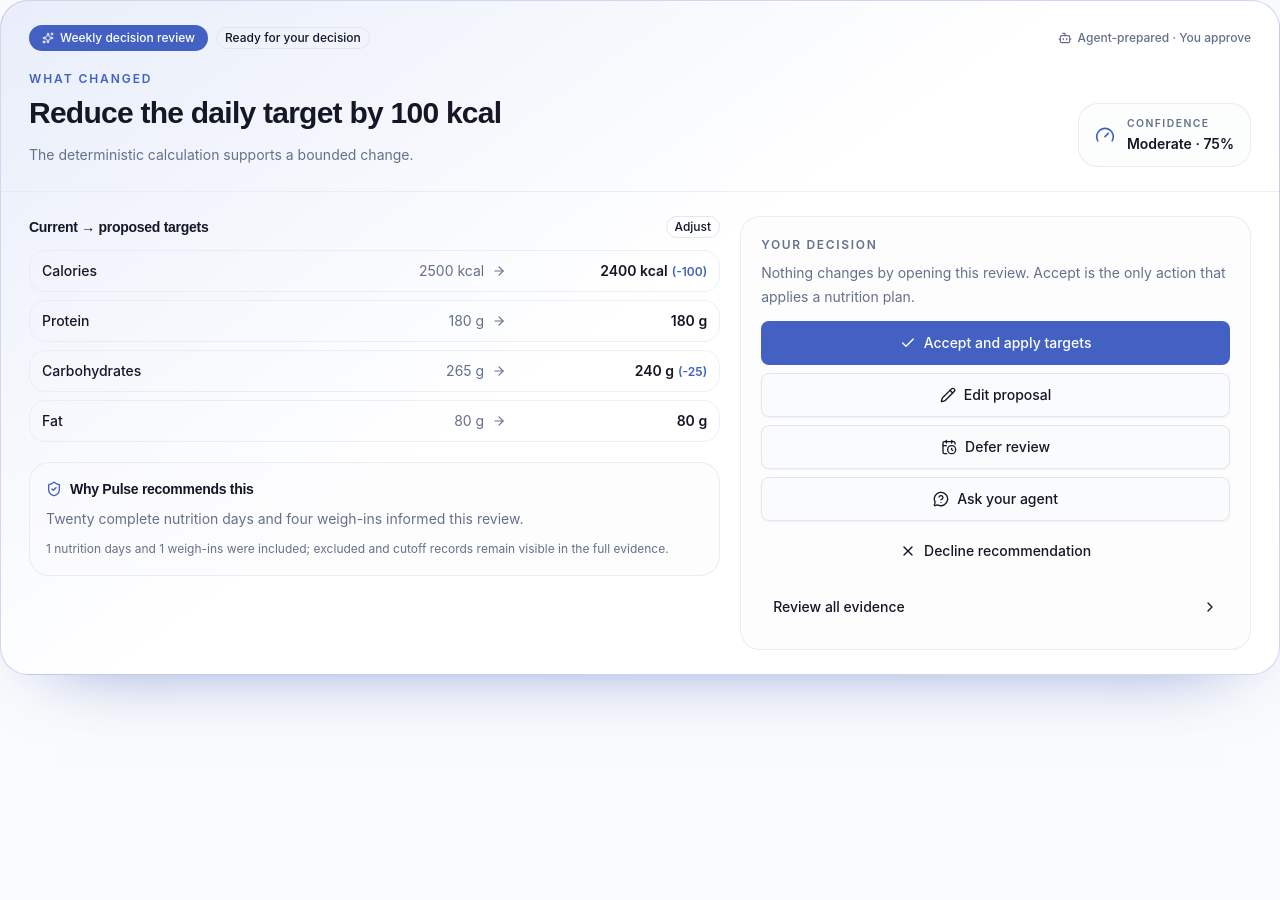
Test: WeeklyDecisionBrief › blocks stale controls and refreshes through the explicit server operation
The image size is (1280, 900).
Click the button "Accept and apply targets" at (996, 343), box [761,321,1230,365]
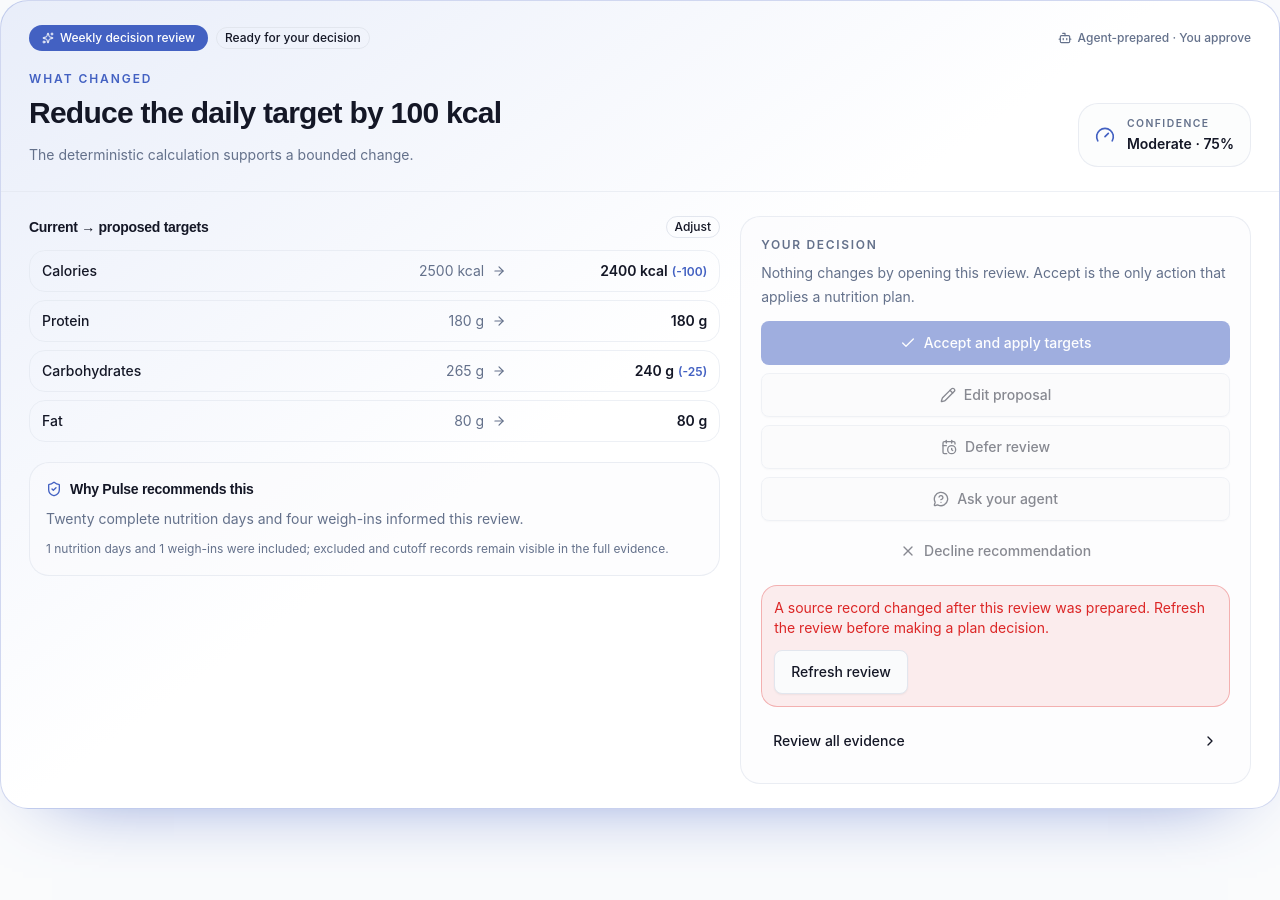
Expected: the message is shown, [761,585,1230,707]
Expected: the button "Edit proposal" is disabled, [761,373,1230,417]
Click the button "Refresh review" at (841, 672), box [774,650,908,694]
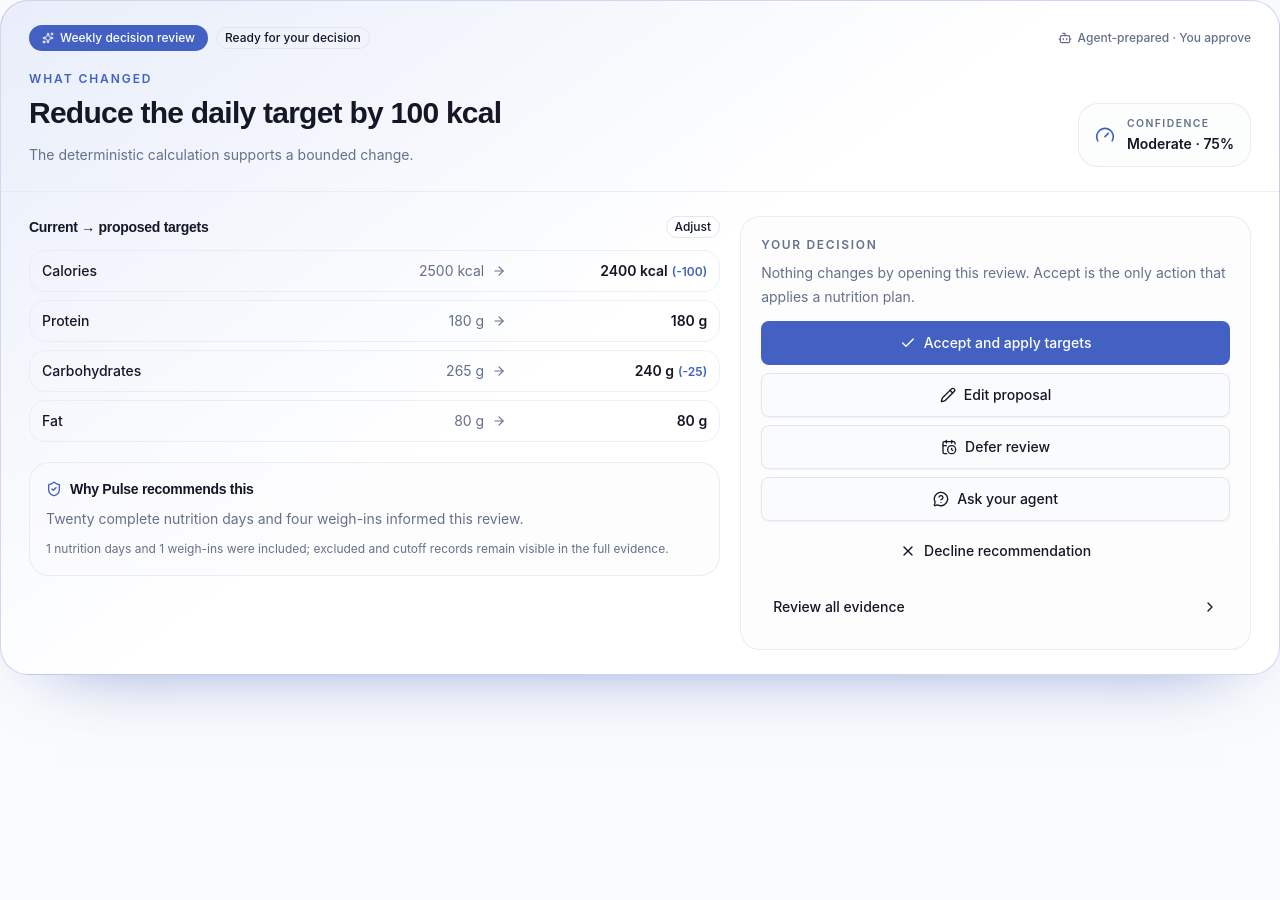
Expected: the message is gone
